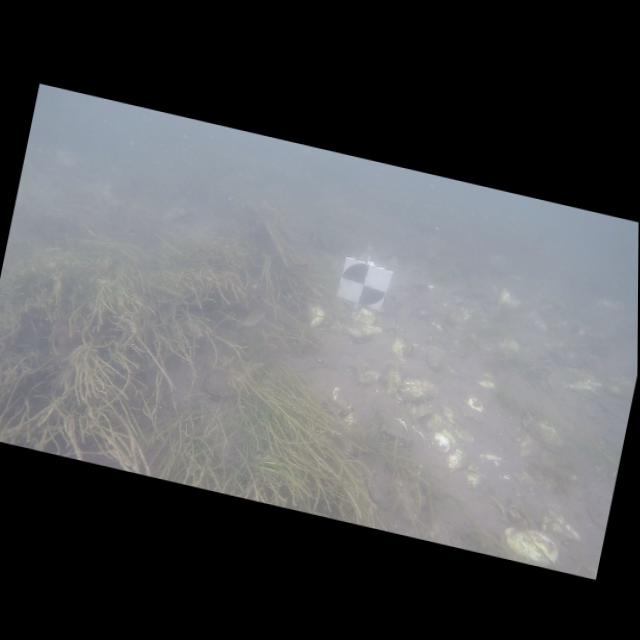Oyster-Closed: (504, 527, 559, 565), (399, 379, 438, 403), (353, 309, 381, 333), (464, 468, 489, 493), (384, 365, 402, 395), (330, 384, 348, 412), (357, 370, 381, 385)
Oyster-Indeterminate: (479, 453, 510, 480), (462, 397, 483, 421), (406, 403, 432, 420), (308, 305, 325, 328), (390, 336, 406, 358), (447, 450, 464, 470), (434, 432, 450, 452), (342, 412, 355, 428)
Oyster-Open: (381, 411, 423, 447), (347, 325, 382, 343), (363, 468, 379, 503), (405, 343, 419, 358)
